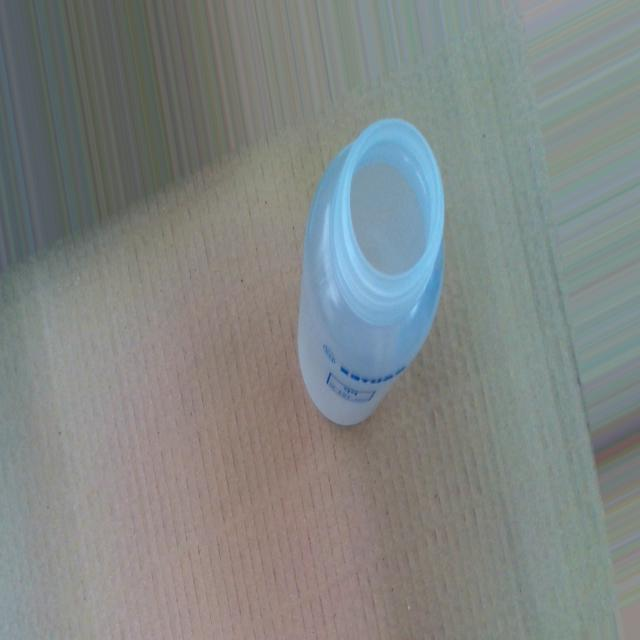bottle: (296, 113, 446, 433)
